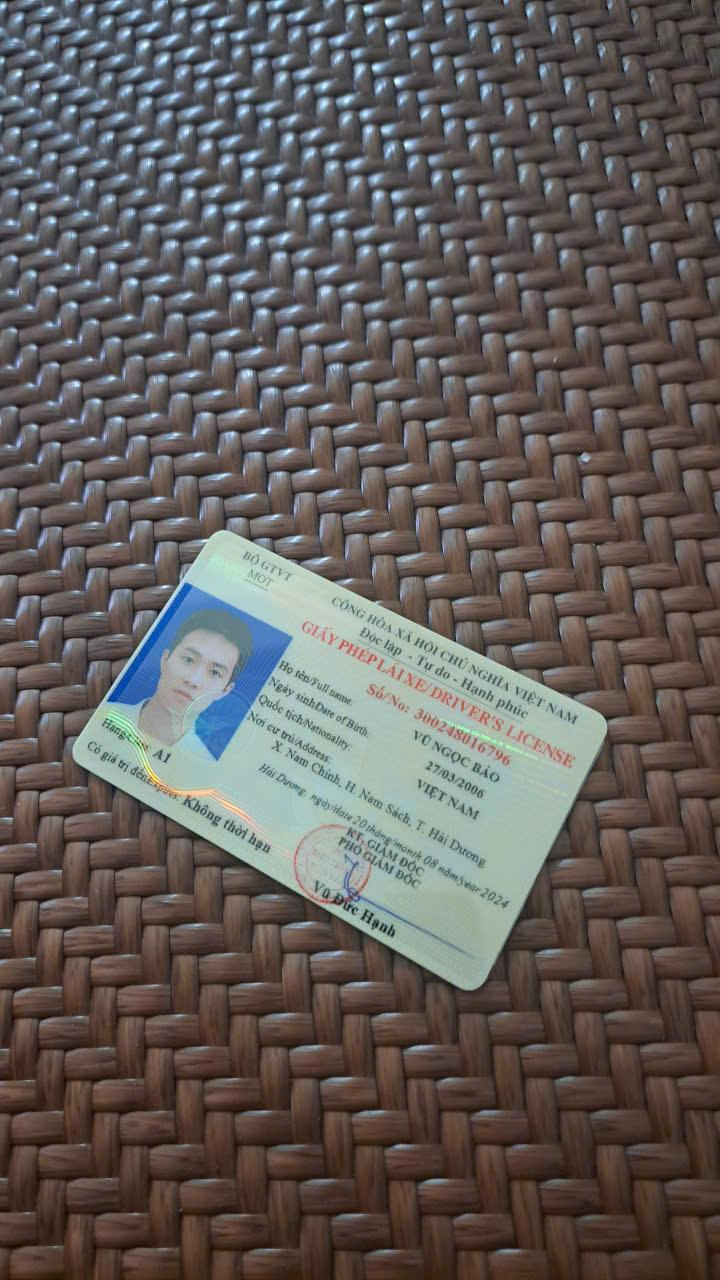gplx: (62, 521, 618, 1008)
